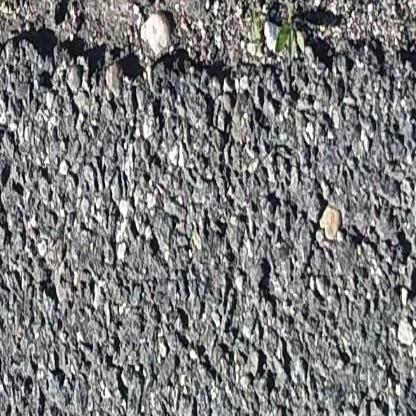Cracks: (0, 0, 240, 189), (256, 0, 416, 98)
